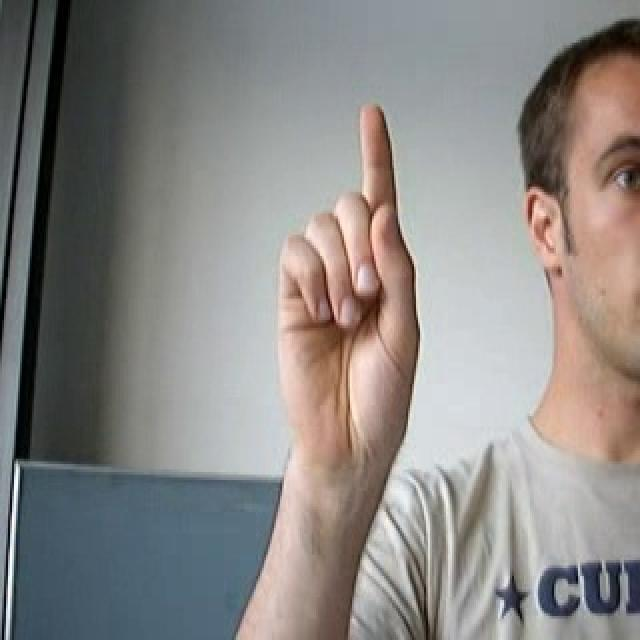D: (248, 90, 441, 488)
